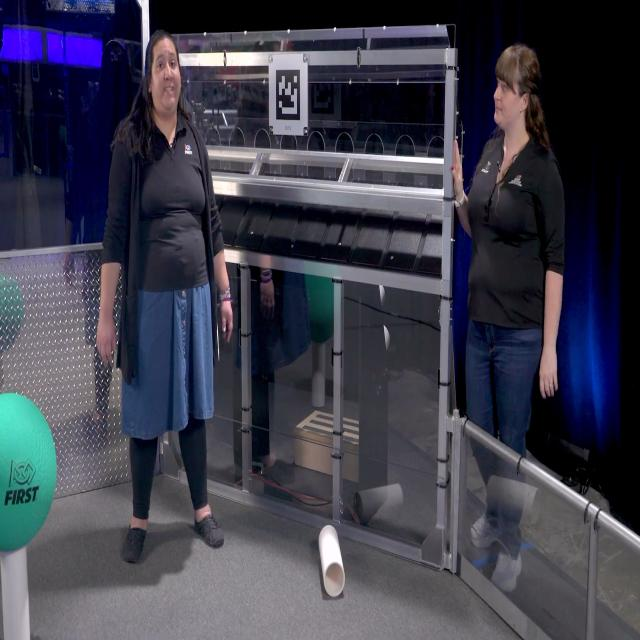Algae: (0, 392, 57, 552)
Coral: (0, 545, 31, 640), (319, 525, 345, 597)
